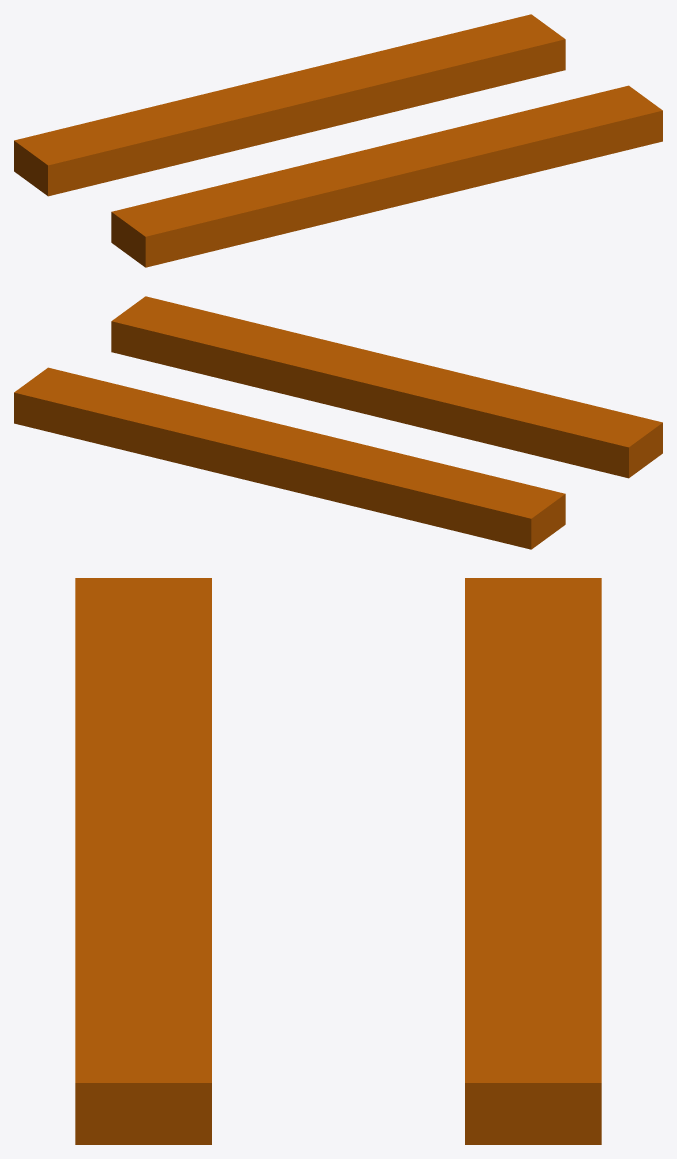
The model's file is SM_Fence_Fallen.fbx.
3 renders of one model, top to bottom at view 1: azimuth 30°, elevation 25°; view 2: azimuth 150°, elevation 25°; view 3: azimuth 270°, elevation 25°, orthographic. The views are drawn at different scales.
Visible parts, largest first — view 1: SM_Fence_Fallen; view 2: SM_Fence_Fallen; view 3: SM_Fence_Fallen.
Part boxes in pixels (bbox=[...]): SM_Fence_Fallen: bbox=[14, 14, 662, 267]; SM_Fence_Fallen: bbox=[14, 296, 662, 549]; SM_Fence_Fallen: bbox=[75, 578, 601, 1144].
Bounding box in the file's own units: 350 × 20 × 154.
